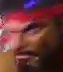ryu: (0, 0, 61, 71)
